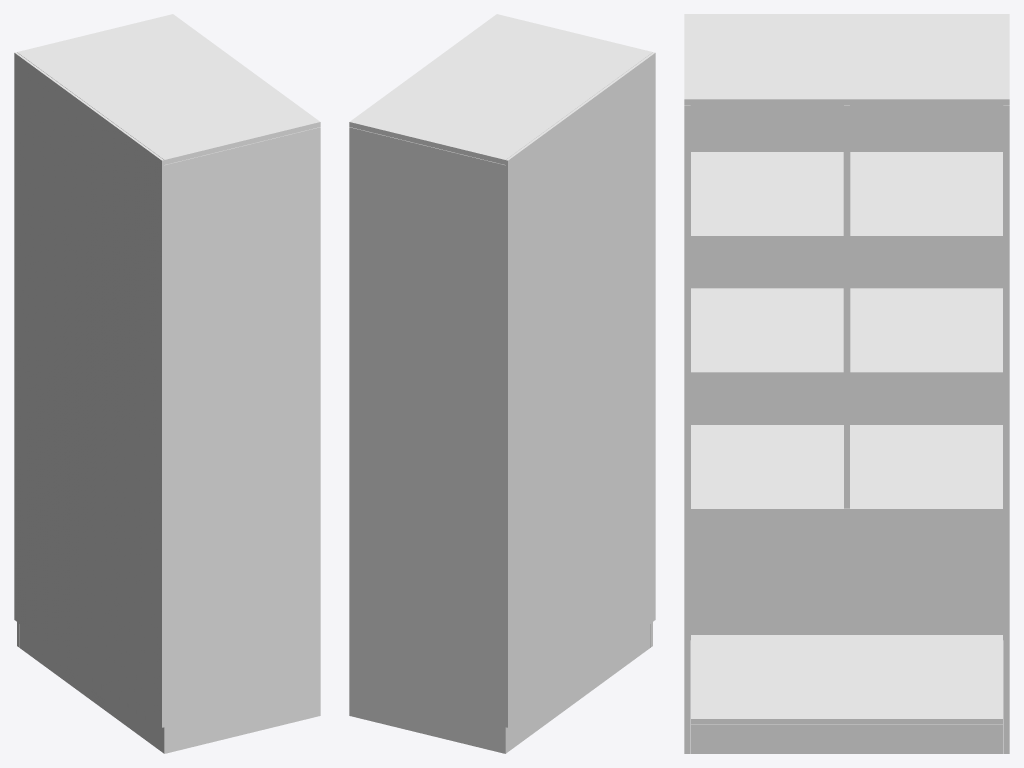
Rendered from TUAO.glb.
The picture shows the model from 3 angles, left to right: view 1: azimuth 30°, elevation 25°; view 2: azimuth 150°, elevation 25°; view 3: azimuth 270°, elevation 25°; orthographic projection. The views are drawn at different scales.
Parts seen in each view (by area): view 1: MAIN-H-L, BACK, MAIN-W, MAIN; view 2: MAIN-H-R, BACK, MAIN-W, MAIN; view 3: BACK, MAIN-W, MAIN-W-B, MAIN-W-C.003, MAIN-W-C.004, MAIN-W-C.002, MAIN-W-C.001, MAIN-W-C, MAIN-W-B.001, MAIN-H-R, MAIN-H-L, MAIN-HP-C.
Boxes of the visible parts, box(x1,y1,x2,y2) form: MAIN-H-L: box(161, 127, 320, 753); BACK: box(14, 52, 164, 727); MAIN-W: box(17, 14, 320, 164); MAIN: box(20, 624, 161, 751); MAIN-H-R: box(349, 127, 508, 753); BACK: box(505, 52, 655, 727); MAIN-W: box(349, 14, 652, 164); MAIN: box(508, 624, 649, 751); BACK: box(684, 14, 1009, 639); MAIN-W: box(684, 15, 1009, 104); MAIN-W-B: box(691, 635, 1002, 724); MAIN-W-C.003: box(691, 425, 1002, 514); MAIN-W-C.004: box(691, 288, 843, 377); MAIN-W-C.002: box(850, 288, 1002, 377); MAIN-W-C.001: box(850, 152, 1002, 241); MAIN-W-C: box(691, 152, 843, 241); MAIN-W-B.001: box(691, 724, 1002, 753); MAIN-H-R: box(1003, 105, 1009, 753); MAIN-H-L: box(684, 105, 690, 753); MAIN-HP-C: box(844, 105, 849, 508).
Bounding box in the file's own units: 0.559 × 2 × 0.9.
Materials: 2 (2 with a texture image).
